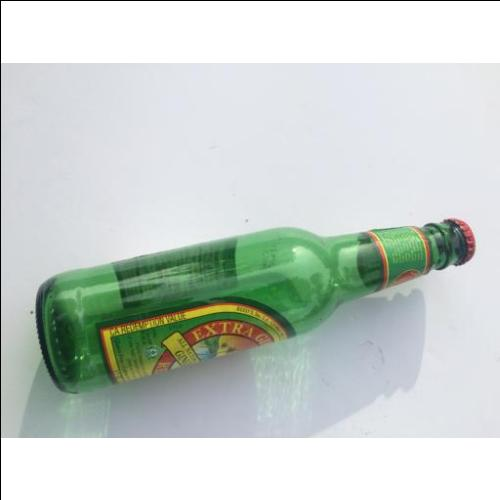glass: (36, 222, 474, 396)
